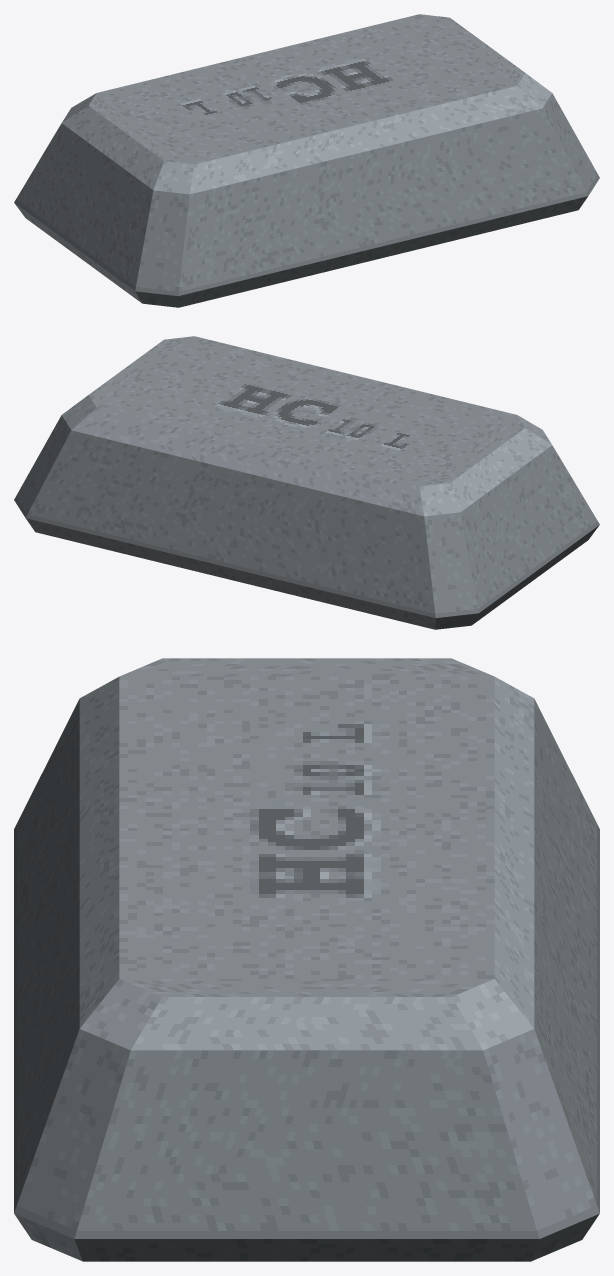
The model's file is 10l_hc_steel.glb.
The picture shows the model from 3 angles, top to bottom: view 1: azimuth 30°, elevation 25°; view 2: azimuth 150°, elevation 25°; view 3: azimuth 270°, elevation 25°; orthographic projection. The views are drawn at different scales.
Visible parts, largest first — view 1: block_one-piece cast ingot; view 2: block_one-piece cast ingot; view 3: block_one-piece cast ingot.
Part boxes in pixels (box(x1,y1,x2,y2)): block_one-piece cast ingot: box(14, 14, 599, 307); block_one-piece cast ingot: box(14, 336, 599, 629); block_one-piece cast ingot: box(14, 658, 599, 1261).
Bounding box in the file's own units: 0.39 × 0.0939 × 0.2218.
Materials: 1 (1 with a texture image).
